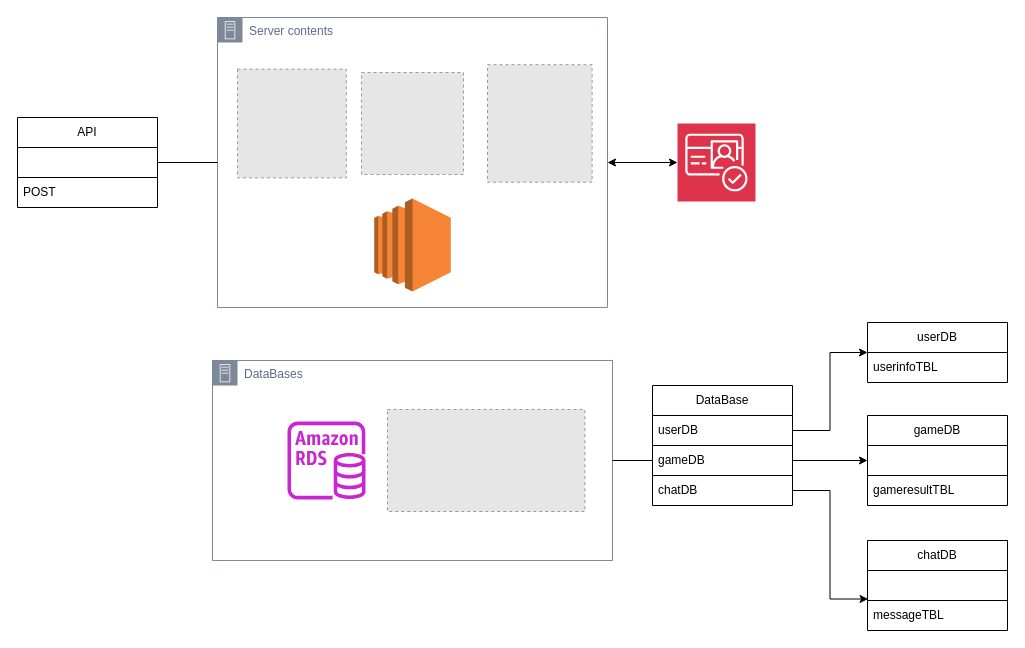
Some shapes in this 1025 by 648 pixel diagram are drawn without their labels. Grey dashed boxes stand in for pictures. The shapes that lost their labels are listed below. From the top down, each one's centre as x and y in pixels, then its label:
(x=87, y=162): GET
(x=937, y=460): gameinfoTBL
(x=937, y=585): roomTBL
